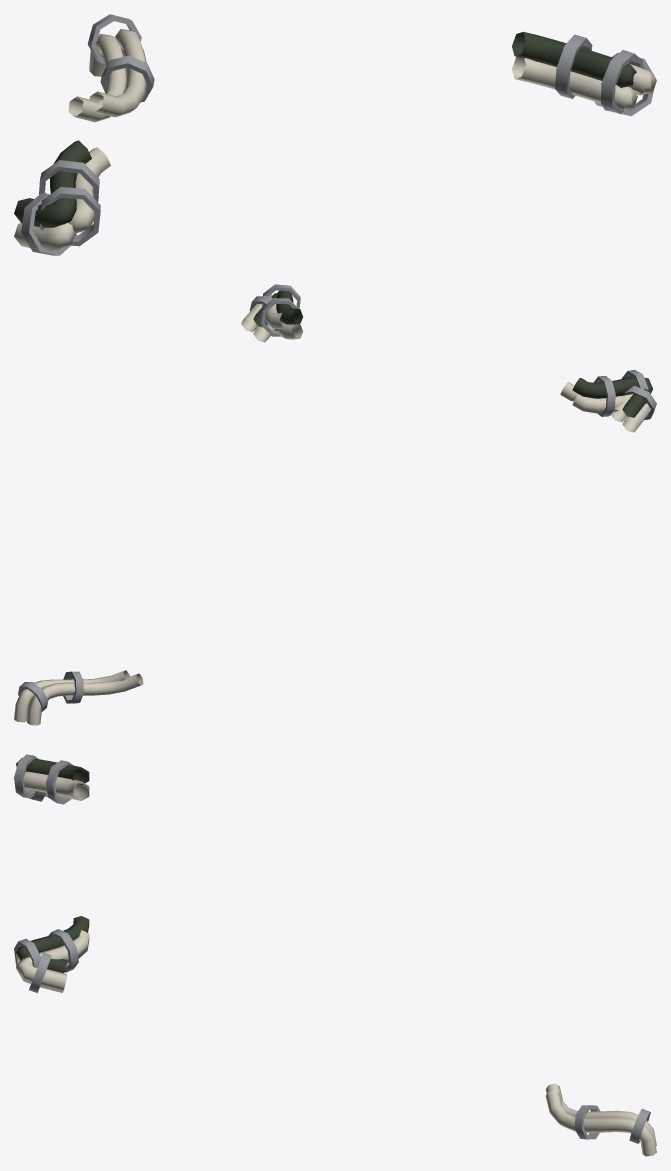
Rendered from s150_harness.obj.
The picture shows the model from 3 angles, top to bottom: view 1: azimuth 30°, elevation 25°; view 2: azimuth 150°, elevation 25°; view 3: azimuth 270°, elevation 25°; orthographic projection. The views are drawn at different scales.
Visible parts, largest first — view 1: s150_harness; view 2: s150_harness; view 3: s150_harness.
Part boxes in pixels (x1,y1,x2,y2): s150_harness: (14, 14, 656, 255); s150_harness: (14, 284, 656, 725); s150_harness: (14, 754, 656, 1156).
Size of the model in its own units: 1.1 by 0.5708 by 1.42.
